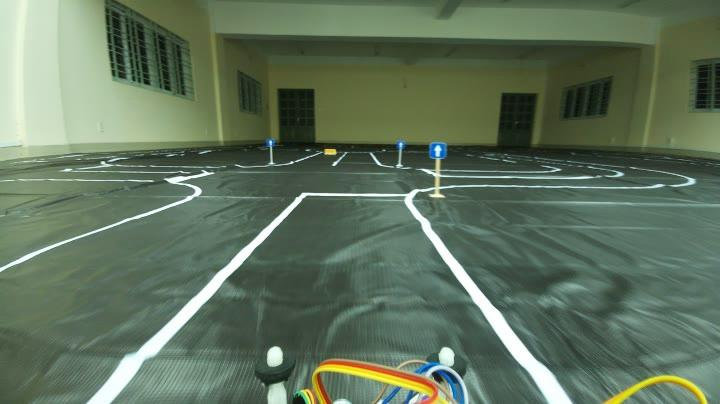onewayroad: (428, 139, 446, 161), (262, 138, 276, 148), (396, 140, 405, 148)
roadblock: (322, 146, 342, 158)
